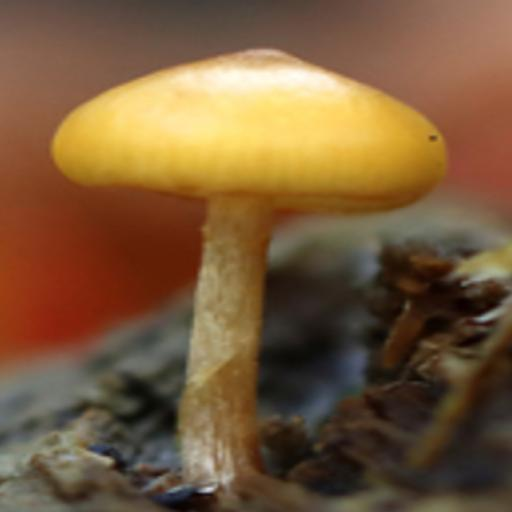mushroom: (37, 39, 459, 331)
